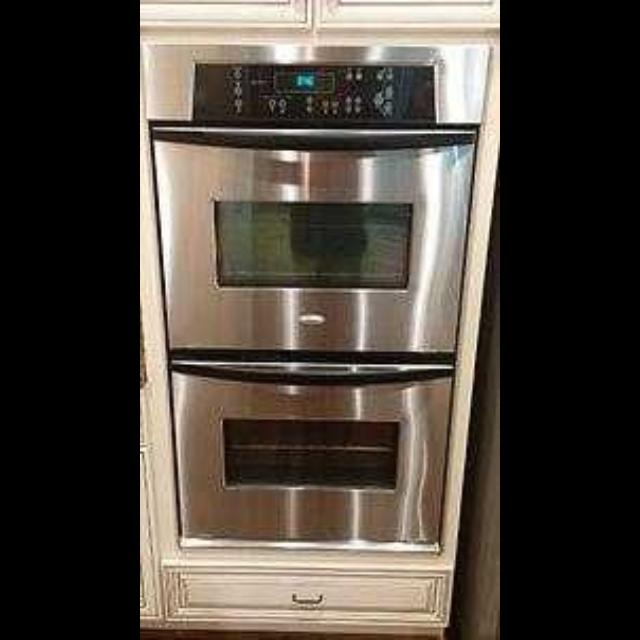Oven: (146, 41, 474, 356), (168, 362, 476, 552)
